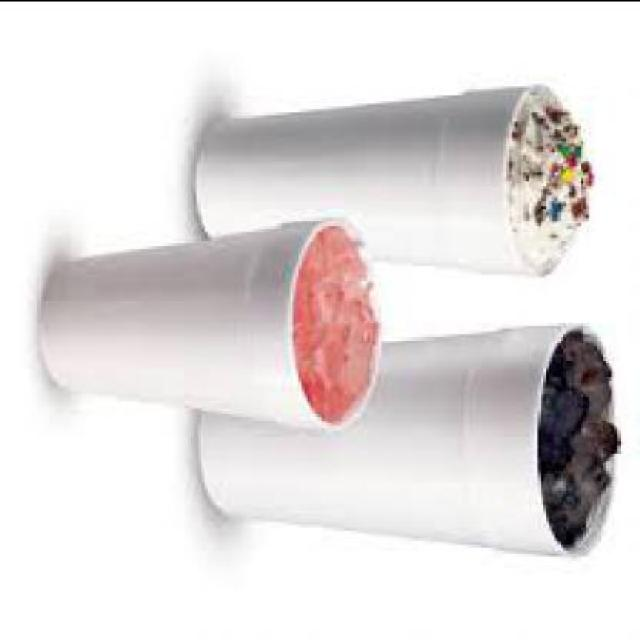BIODEGRADABLE: (540, 336, 626, 549), (508, 92, 594, 273), (298, 230, 378, 421)
PAPER: (202, 327, 626, 561), (202, 88, 589, 280), (39, 219, 390, 430)
